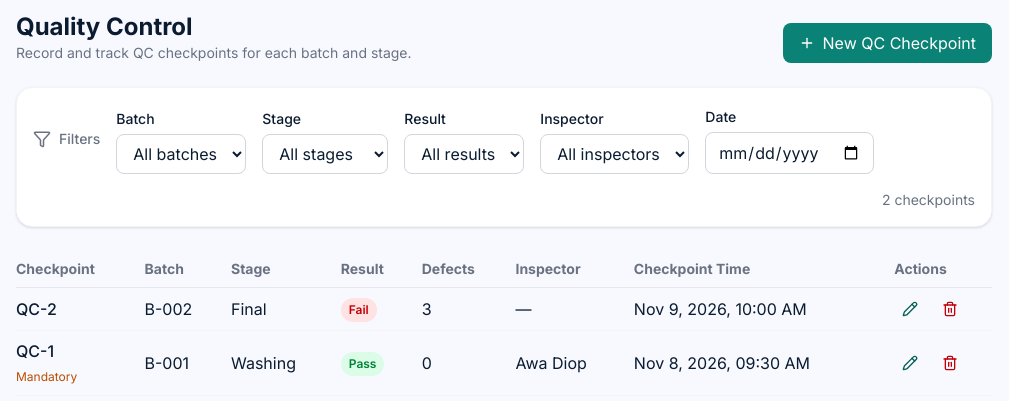
it: QcCheckpointList › filters by inspector
The width and height of the screenshot is (1009, 401).
Expected: the text "QC-1" is shown, [16, 341, 54, 361]
Select "Awa Diop" in the dropdown named "Filter by inspector" at (615, 154), box [540, 134, 689, 174]
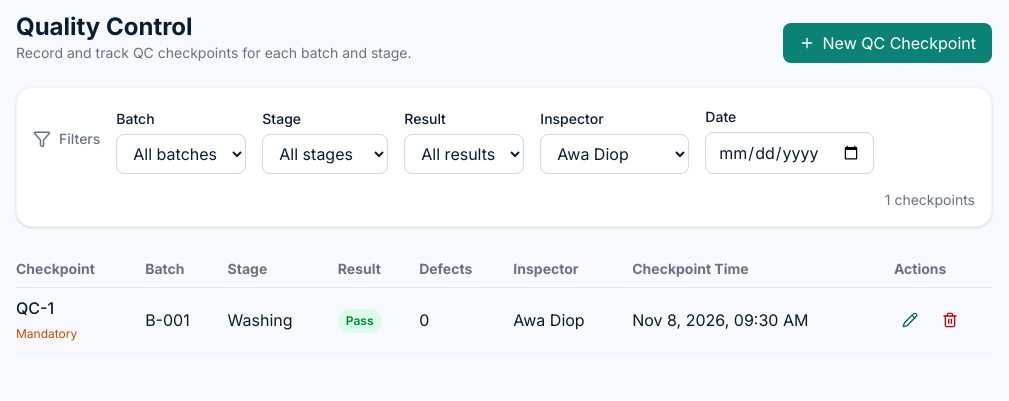
Expected: the text "QC-1" is shown, [16, 298, 54, 318]
Now the text "QC-2" is gone
